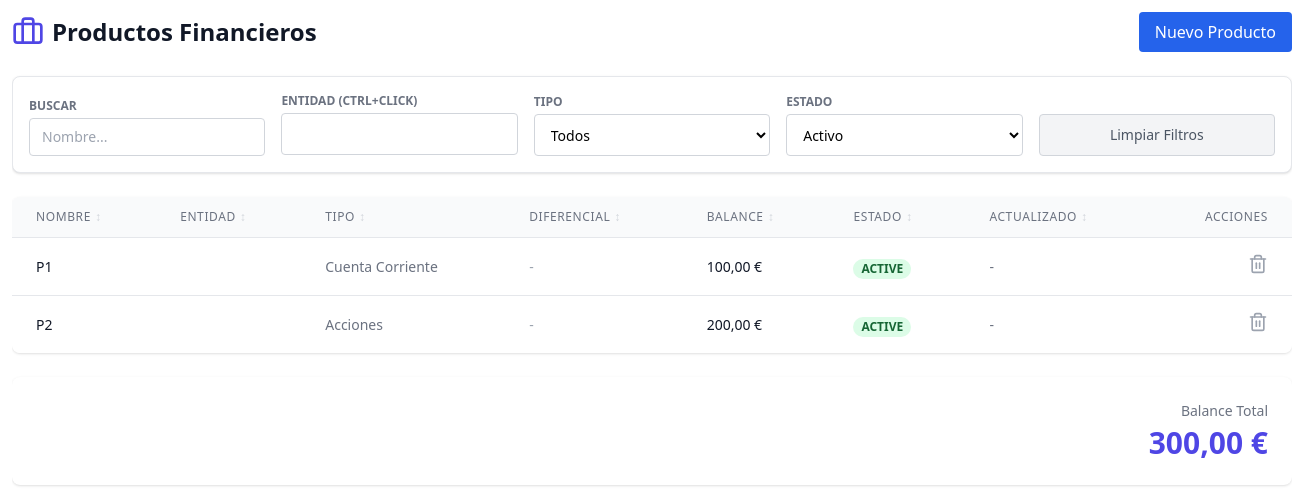
it: ProductsPage › filters products by type
Expected: the text "P1" is shown, [12,238,156,296]
Select "Acciones" in the dropdown labelled "Tipo". click: (652, 135)
box: [534,114,770,156]
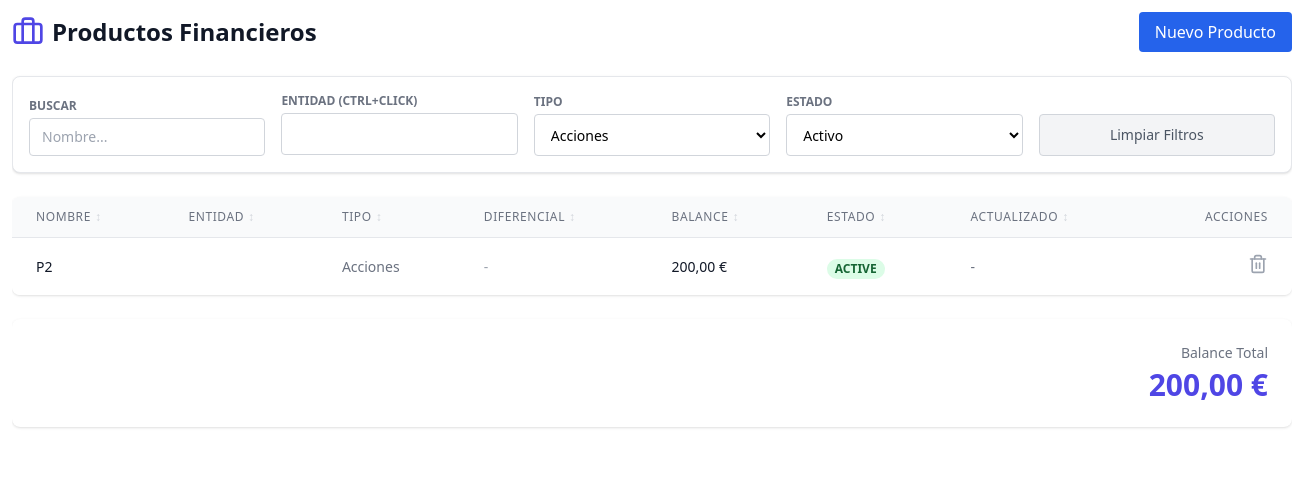
Expected: the text "P2" is shown, [12,238,164,295]
Expected: the text "P1" is gone
